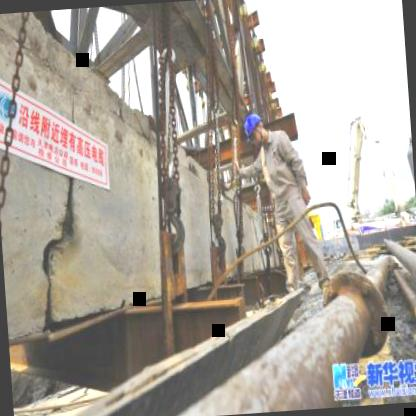helmet: (243, 109, 269, 147)
